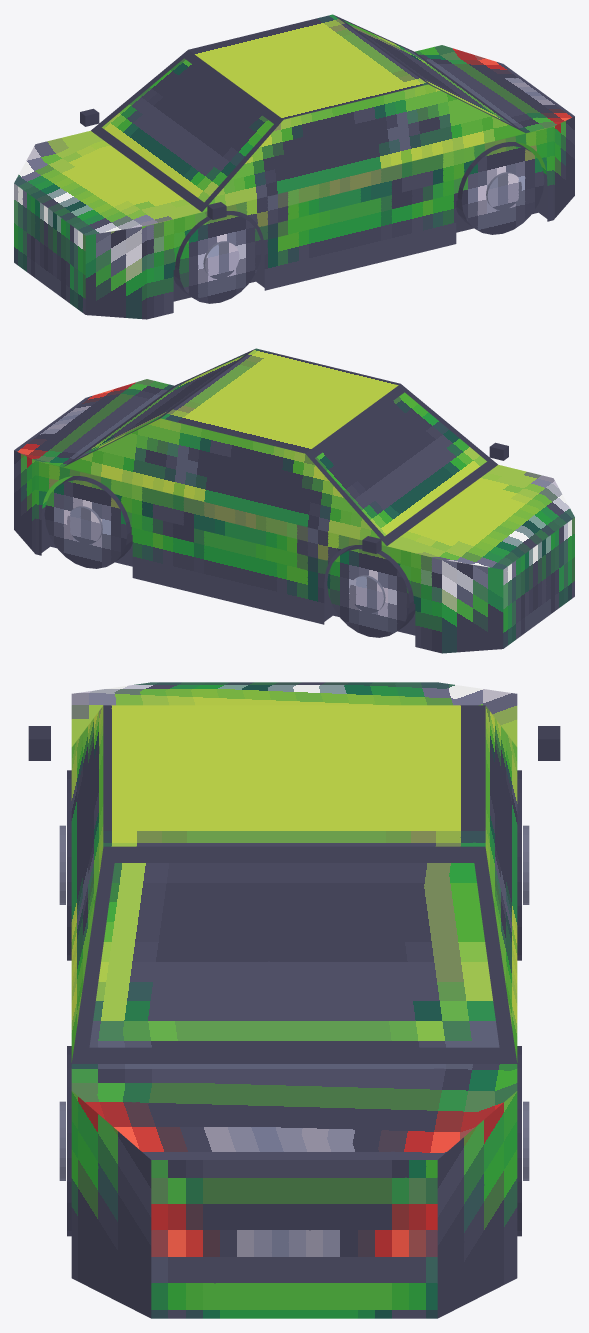
The model's file is car-24-v1.glb.
3 renders of one model, top to bottom at view 1: azimuth 30°, elevation 25°; view 2: azimuth 150°, elevation 25°; view 3: azimuth 270°, elevation 25°, orthographic. The views are drawn at different scales.
Parts seen in each view (by area): view 1: Passenger-body-west, Cabin-windows-west, Roof, Windshield-glass, Hood, Front-fascia, Trunk, Front-corner--1, Tire_RL, Tire_FL, Windshield-frame, Rear-window-glass (+7 smaller); view 2: Passenger-body-east, Cabin-windows-east, Roof, Windshield-glass, Hood, Front-fascia, Trunk, Front-corner-1, Tire_RR, Tire_FR, Windshield-frame, Rear-window-glass (+7 smaller); view 3: Rear-window-glass, Roof, Rear-fascia, Trunk, Rear-window-frame, Rear-corner-1, Rear-corner--1, Hood, Cabin-windows-east, Cabin-windows-west, Tire_FL, Tire_FR (+4 smaller).
Part boxes in pixels (x1,y1,x2,y2): Passenger-body-west: [147, 126, 553, 319]; Cabin-windows-west: [202, 84, 525, 212]; Roof: [188, 14, 427, 119]; Windshield-glass: [102, 58, 273, 202]; Hood: [14, 131, 201, 235]; Front-fascia: [14, 183, 85, 314]; Trunk: [415, 45, 574, 132]; Front-corner--1: [85, 225, 146, 319]; Tire_RL: [456, 142, 544, 234]; Tire_FL: [173, 211, 261, 303]; Windshield-frame: [91, 50, 283, 211]; Rear-window-glass: [343, 20, 513, 125]; Passenger-body-east: [35, 460, 441, 653]; Cabin-windows-east: [63, 418, 386, 546]; Roof: [161, 348, 400, 453]; Windshield-glass: [315, 392, 486, 536]; Hood: [387, 465, 574, 569]; Front-fascia: [503, 517, 574, 648]; Trunk: [14, 379, 173, 466]; Front-corner-1: [442, 559, 503, 653]; Tire_RR: [44, 476, 132, 568]; Tire_FR: [327, 545, 415, 637]; Windshield-frame: [305, 384, 497, 545]; Rear-window-glass: [75, 354, 245, 459]; Rear-window-glass: [89, 863, 499, 1047]; Roof: [103, 705, 485, 846]; Rear-fascia: [151, 1160, 437, 1318]; Trunk: [71, 1064, 517, 1159]; Rear-window-frame: [71, 846, 517, 1063]; Rear-corner-1: [437, 1091, 517, 1318]; Rear-corner--1: [71, 1091, 151, 1318]; Hood: [71, 682, 517, 746]; Cabin-windows-east: [485, 706, 517, 1062]; Cabin-windows-west: [71, 706, 103, 1062]; Tire_FL: [67, 770, 71, 960]; Tire_FR: [517, 770, 521, 960].
Bounding box in the file's own units: 71 × 22 × 33.4.
Materials: 1 (1 with a texture image).
